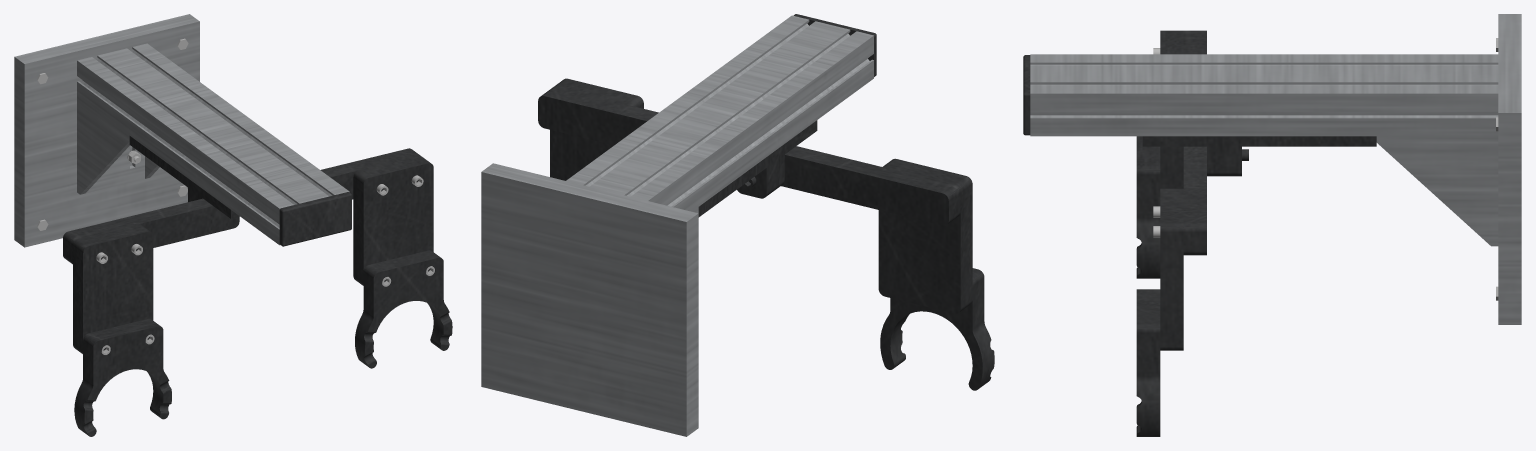
The model's file is tool_holder.gltf.
3 renders of one model, left to right at view 1: azimuth 30°, elevation 25°; view 2: azimuth 150°, elevation 25°; view 3: azimuth 270°, elevation 25°, orthographic. The views are drawn at different scales.
Visible parts, largest first — view 1: circular_tool_holder.SLDPRT; view 2: circular_tool_holder.SLDPRT; view 3: circular_tool_holder.SLDPRT.
Part boxes in pixels (x1,y1,x2,y2): circular_tool_holder.SLDPRT: (14,14,452,436); circular_tool_holder.SLDPRT: (481,14,994,436); circular_tool_holder.SLDPRT: (1023,14,1521,436).
Bounding box in the file's own units: 0.21 × 0.129 × 0.213.
5 materials, 4 textured.
